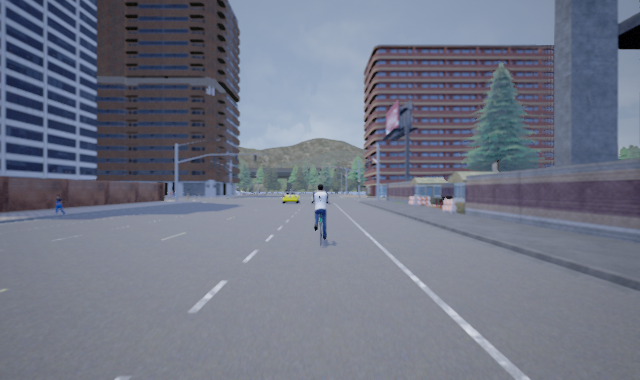bike: (312, 183, 328, 246)
pedestrian: (52, 193, 66, 214)
vehicle: (282, 190, 301, 203)
